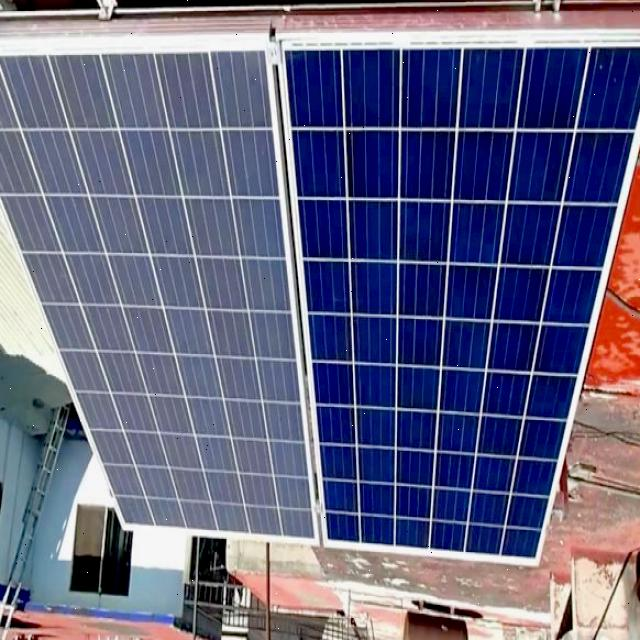Normal Solar Panel: (287, 45, 640, 561)
